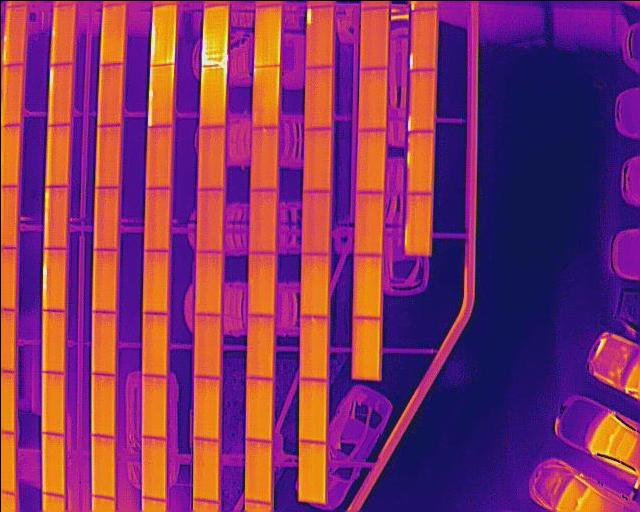Cell: (406, 131, 433, 193), (0, 4, 27, 65), (50, 3, 76, 66)
No-Anomaly: (356, 128, 386, 192), (354, 191, 384, 255), (253, 3, 282, 68), (358, 67, 387, 131), (143, 124, 172, 188), (300, 253, 329, 317), (252, 63, 280, 129), (249, 188, 277, 254), (194, 252, 223, 314), (298, 378, 327, 440), (303, 65, 331, 129), (143, 187, 171, 251), (404, 192, 432, 256), (246, 315, 274, 379), (300, 316, 328, 380), (197, 124, 224, 190), (250, 125, 277, 191), (302, 128, 330, 191), (353, 254, 381, 317), (193, 314, 221, 377), (142, 248, 169, 313), (302, 190, 330, 252), (245, 378, 273, 440), (196, 187, 223, 251), (360, 5, 387, 69), (194, 376, 220, 442), (298, 441, 326, 502), (91, 248, 118, 311), (352, 318, 380, 378), (45, 122, 70, 189), (248, 253, 275, 315), (95, 123, 121, 187), (94, 186, 120, 250), (97, 62, 123, 126), (91, 311, 117, 374), (43, 184, 68, 249), (100, 2, 126, 64), (141, 375, 166, 439), (142, 311, 167, 374), (246, 440, 271, 502), (91, 434, 115, 497), (141, 437, 165, 500), (0, 64, 24, 127), (91, 373, 115, 435), (194, 439, 218, 501), (41, 309, 64, 373), (41, 371, 64, 434), (42, 435, 64, 496)
Unclassified: (198, 65, 226, 128), (305, 5, 333, 68), (407, 68, 435, 130), (201, 4, 229, 66), (409, 8, 437, 70), (147, 63, 173, 127), (150, 4, 176, 66), (42, 247, 66, 312), (47, 62, 72, 124)
